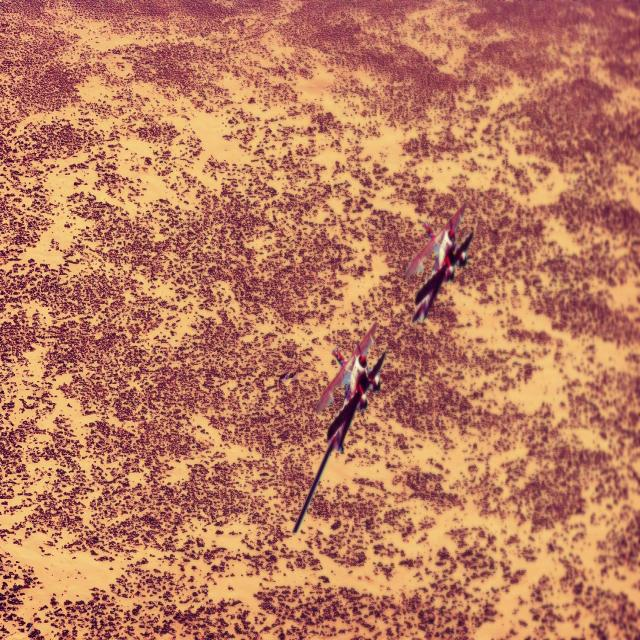airplane: (291, 320, 387, 535), (405, 203, 473, 324)
